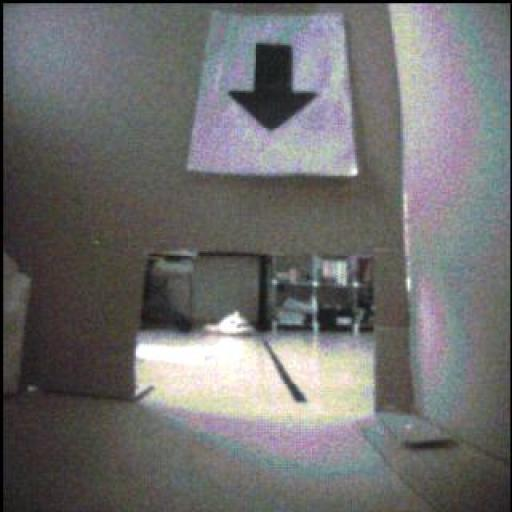arrow: (230, 44, 318, 131)
